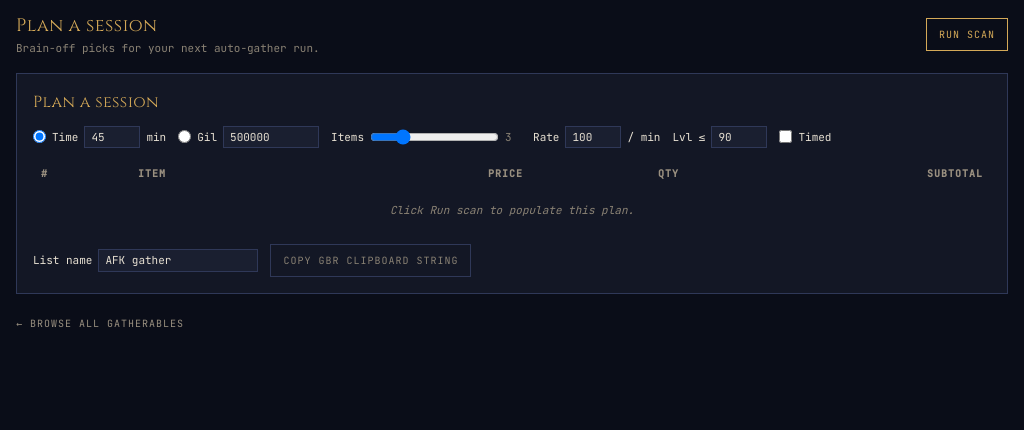
GatheringPlan route › clicking Run scan populates the plan table
Click the button "Run scan".
click(967, 34)  # box left=926, top=18, right=1008, bottom=51
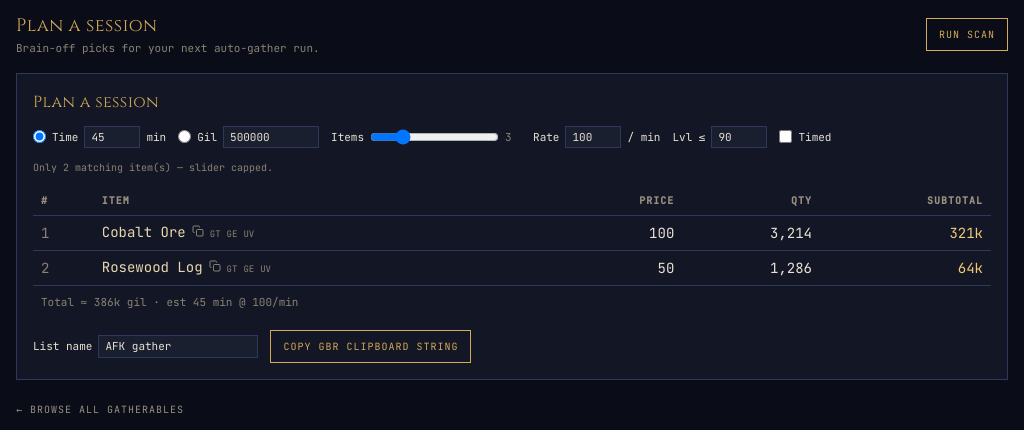
Now the link "Cobalt Ore" is shown, box left=102, top=222, right=186, bottom=242
Now the link "Rosewood Log" is shown, box left=102, top=257, right=203, bottom=277
Now the button "Copy GBR clipboard string" is enabled, box left=270, top=330, right=471, bottom=363
